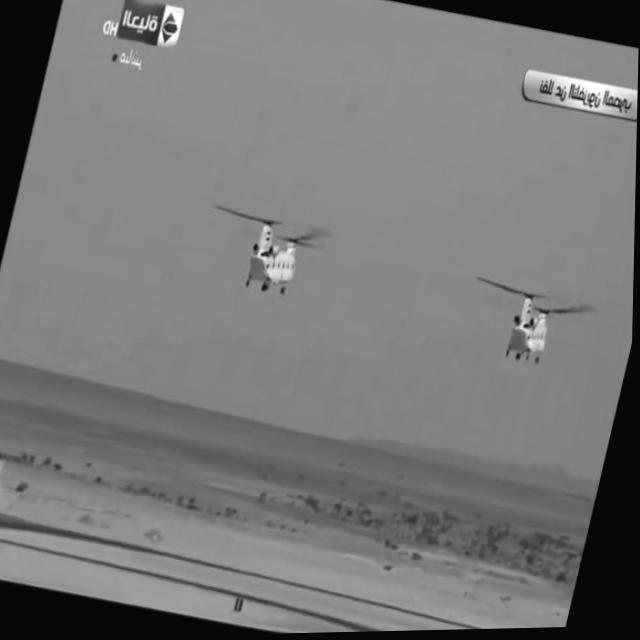helikopter: (217, 178, 349, 319), (463, 259, 599, 390)
